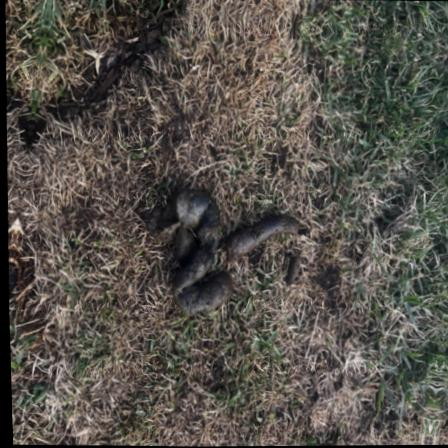dog-poop: (143, 182, 299, 312)
